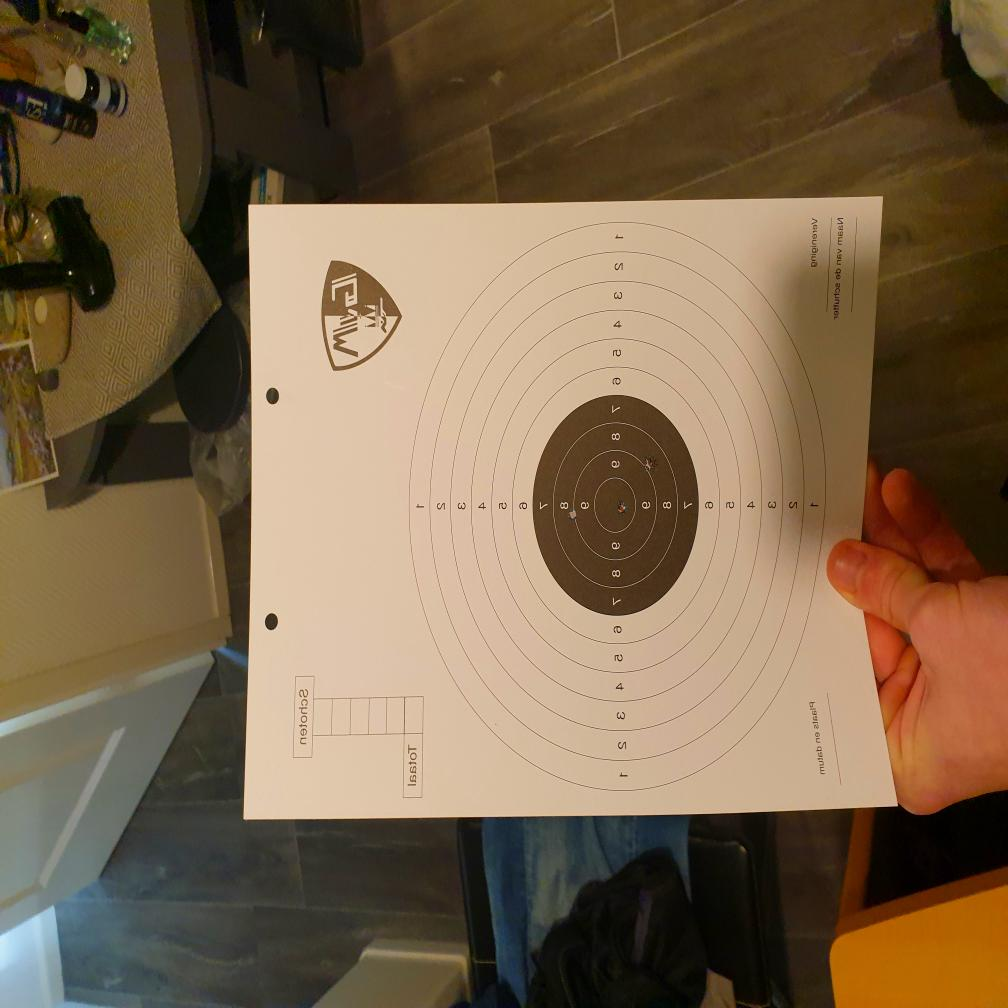10: (617, 501, 628, 516)
9: (643, 454, 658, 474), (567, 508, 577, 521)
Target: (411, 224, 825, 794)
black_contour: (533, 396, 699, 618)
